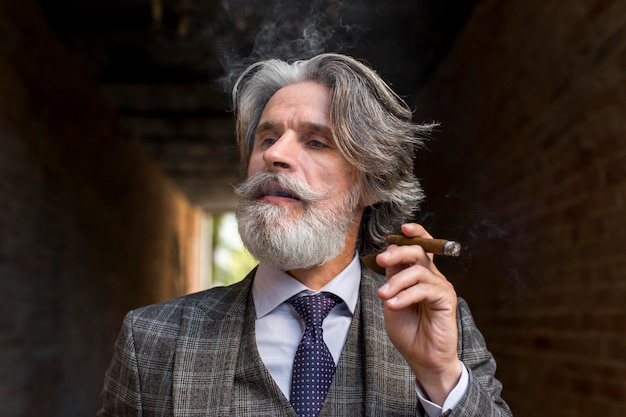cigarette: (383, 232, 462, 257)
